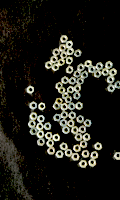nut: (91, 151, 100, 160), (82, 150, 91, 159), (75, 133, 84, 142), (95, 142, 103, 151), (72, 153, 81, 161), (65, 149, 74, 157), (56, 151, 65, 159), (47, 147, 56, 155), (45, 132, 54, 140), (37, 131, 46, 139), (37, 115, 46, 123), (84, 120, 93, 128), (77, 115, 85, 124), (106, 61, 114, 70), (94, 70, 103, 78), (89, 65, 97, 74), (62, 76, 70, 85), (75, 49, 83, 58), (89, 159, 97, 167), (80, 161, 88, 169), (74, 145, 82, 153), (80, 141, 88, 149), (61, 143, 69, 151), (38, 139, 46, 147), (53, 134, 61, 142), (30, 128, 38, 136), (44, 123, 52, 131), (36, 123, 44, 131), (30, 113, 38, 121), (30, 102, 38, 110), (27, 86, 35, 94), (83, 134, 91, 142), (79, 126, 87, 134), (68, 120, 76, 128), (60, 119, 68, 127), (69, 112, 77, 120), (61, 111, 69, 119), (54, 114, 62, 122), (76, 102, 84, 110), (61, 103, 69, 111), (74, 92, 82, 100), (58, 86, 66, 94), (56, 82, 64, 90), (67, 86, 75, 94), (77, 77, 85, 85), (108, 85, 116, 93), (108, 76, 116, 84), (110, 69, 118, 77), (102, 68, 110, 76), (85, 60, 93, 68), (69, 77, 77, 85), (74, 70, 82, 78), (67, 66, 75, 74), (66, 57, 74, 65), (58, 59, 66, 67), (45, 61, 53, 69), (53, 48, 61, 56), (67, 48, 75, 56), (59, 44, 67, 52), (61, 35, 69, 43), (28, 121, 37, 128), (72, 126, 79, 135), (63, 126, 70, 135), (47, 140, 55, 147), (39, 103, 46, 111), (69, 103, 76, 111), (53, 103, 61, 110), (65, 96, 73, 103), (75, 85, 82, 93), (96, 63, 104, 70), (82, 71, 89, 79), (78, 64, 85, 72), (52, 64, 60, 71), (51, 56, 58, 64), (61, 51, 68, 59), (66, 41, 74, 48), (56, 98, 63, 105), (63, 93, 70, 100), (115, 152, 120, 161), (115, 81, 120, 89)
